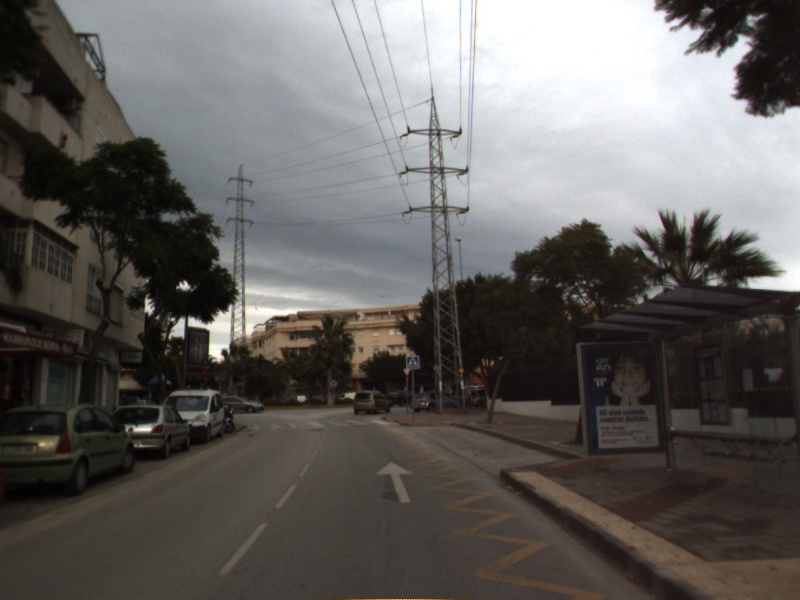STRAIGHT: (374, 460, 415, 504)
